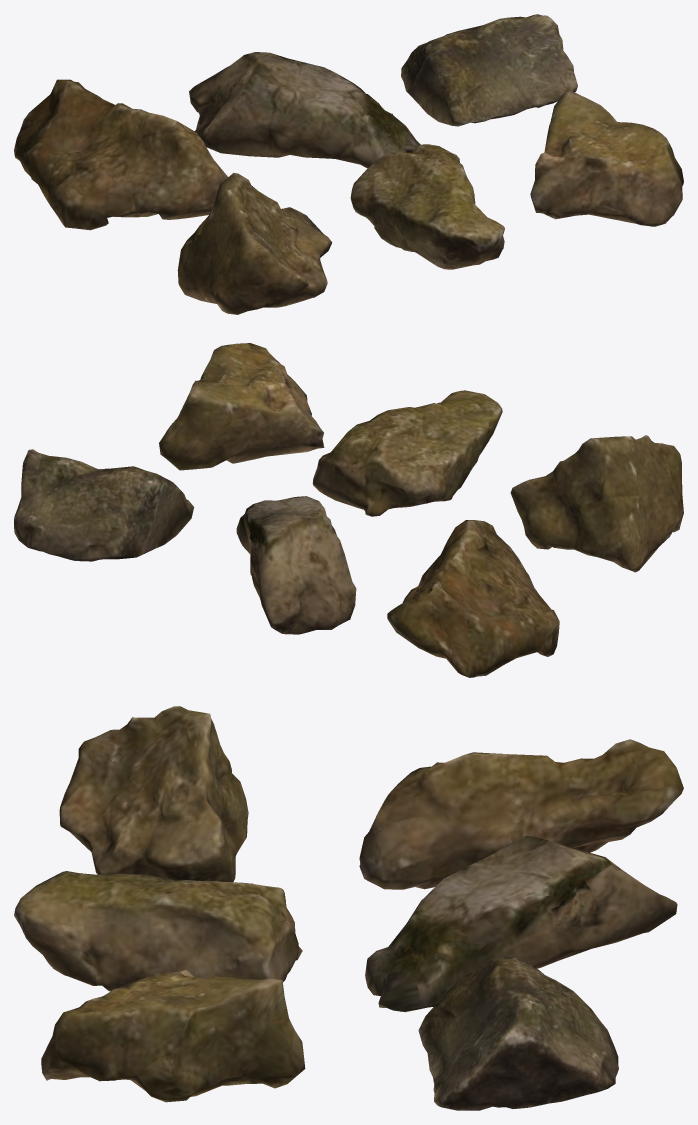
Rendered from ph_rock_moss_set_01.glb.
3 views of the same model, one above another, from view 1: azimuth 30°, elevation 25°; view 2: azimuth 150°, elevation 25°; view 3: azimuth 270°, elevation 25° (orthographic). The views are drawn at different scales.
Visible parts, largest first — view 1: rock_moss_set_01_rock01, rock_moss_set_01_rock02, rock_moss_set_01_rock06, rock_moss_set_01_rock04, rock_moss_set_01_rock03, rock_moss_set_01_rock05; view 2: rock_moss_set_01_rock04, rock_moss_set_01_rock01, rock_moss_set_01_rock05, rock_moss_set_01_rock03, rock_moss_set_01_rock06, rock_moss_set_01_rock02; view 3: rock_moss_set_01_rock01, rock_moss_set_01_rock02, rock_moss_set_01_rock05, rock_moss_set_01_rock04, rock_moss_set_01_rock06, rock_moss_set_01_rock03.
Part boxes in pixels (x1=…): rock_moss_set_01_rock01: x1=14, y1=79, x2=227, y2=230; rock_moss_set_01_rock02: x1=189, y1=52, x2=420, y2=168; rock_moss_set_01_rock06: x1=530, y1=89, x2=683, y2=226; rock_moss_set_01_rock04: x1=177, y1=172, x2=332, y2=314; rock_moss_set_01_rock03: x1=401, y1=14, x2=577, y2=126; rock_moss_set_01_rock05: x1=350, y1=144, x2=504, y2=269; rock_moss_set_01_rock04: x1=510, y1=435, x2=683, y2=572; rock_moss_set_01_rock01: x1=387, y1=520, x2=559, y2=677; rock_moss_set_01_rock05: x1=312, y1=390, x2=502, y2=516; rock_moss_set_01_rock03: x1=14, y1=449, x2=194, y2=561; rock_moss_set_01_rock06: x1=159, y1=343, x2=324, y2=470; rock_moss_set_01_rock02: x1=236, y1=496, x2=356, y2=634; rock_moss_set_01_rock01: x1=359, y1=739, x2=683, y2=889; rock_moss_set_01_rock02: x1=365, y1=835, x2=677, y2=1012; rock_moss_set_01_rock05: x1=14, y1=871, x2=302, y2=991; rock_moss_set_01_rock04: x1=59, y1=706, x2=248, y2=882; rock_moss_set_01_rock06: x1=41, y1=970, x2=305, y2=1102; rock_moss_set_01_rock03: x1=418, y1=955, x2=618, y2=1110.
Size of the model in its own units: 8 by 1.76 by 6.94.
1 material, 1 textured.
